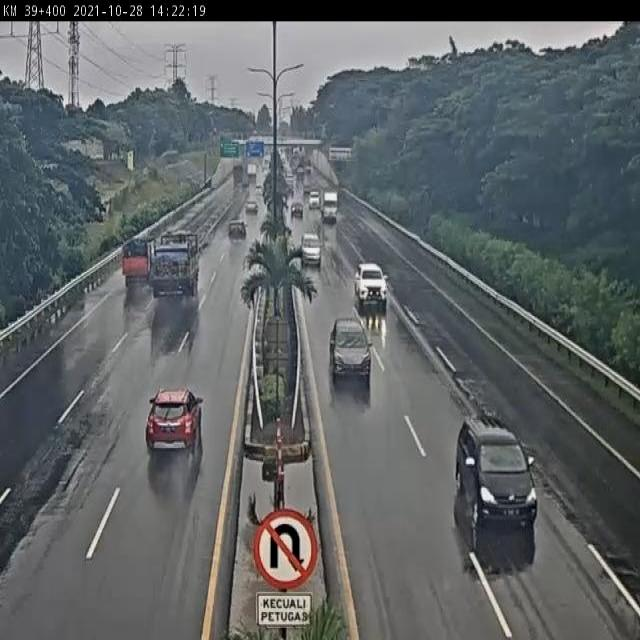Car: (455, 415, 537, 542), (146, 385, 204, 455), (329, 317, 373, 383), (354, 262, 387, 307), (228, 219, 246, 240), (308, 190, 321, 209), (290, 202, 304, 218), (245, 198, 258, 214), (284, 173, 294, 184), (303, 183, 311, 195), (241, 180, 250, 188), (255, 184, 262, 194)
Truck: (150, 230, 200, 298), (121, 236, 157, 287), (321, 190, 338, 221), (233, 164, 243, 182), (246, 162, 256, 178)
Van: (300, 232, 323, 266)
